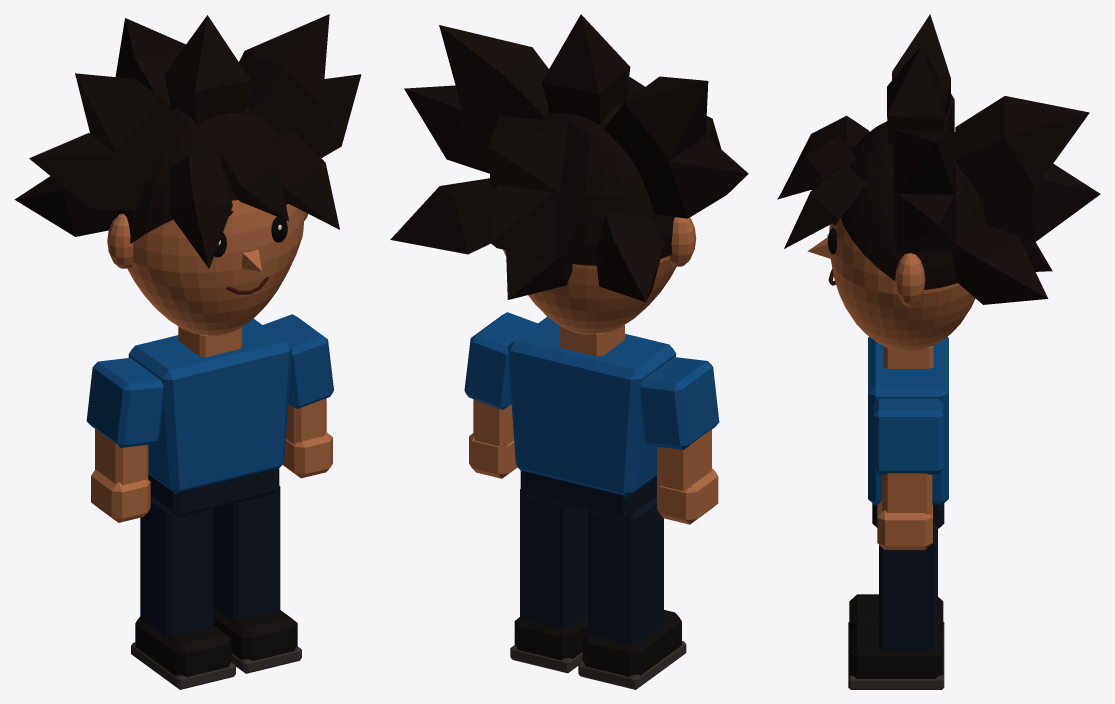
File: avatar-mii-kenney-cabelo-mechas-01.obj
The picture shows the model from 3 angles, left to right: view 1: azimuth 30°, elevation 25°; view 2: azimuth 150°, elevation 25°; view 3: azimuth 270°, elevation 25°; orthographic projection. The views are drawn at different scales.
Visible parts, largest first — view 1: Cabelo_mechas_01, Corpo_01, Cabeca_01, Perna_L, Perna_R, Manga, Sapato_L, Manga.001, Quadril, Sapato_R, Mao, Antebraco (+6 smaller); view 2: Cabelo_mechas_01, Corpo_01, Perna_L, Perna_R, Manga, Cabeca_01, Manga.001, Quadril, Sapato_L, Sapato_R, Antebraco, Mao (+6 smaller); view 3: Cabelo_mechas_01, Cabeca_01, Perna_R, Manga.001, Corpo_01, Sapato_R, Mao.001, Antebraco.001, Orelha_R, Sola.001, Sapato_L, Pescoco.
Part boxes in pixels (box(x1,y1,x2,y2)): Cabelo_mechas_01: box(14, 14, 361, 268); Corpo_01: box(128, 318, 291, 493); Cabeca_01: box(127, 200, 304, 335); Perna_L: box(140, 495, 214, 637); Perna_R: box(214, 486, 280, 621); Manga: box(86, 358, 163, 447); Sapato_L: box(135, 617, 231, 677); Manga.001: box(263, 314, 333, 408); Quadril: box(148, 468, 279, 517); Sapato_R: box(214, 608, 297, 661); Mao: box(91, 470, 150, 522); Antebraco: box(95, 428, 148, 484); Cabelo_mechas_01: box(390, 14, 748, 301); Corpo_01: box(507, 317, 676, 497); Perna_L: box(588, 496, 663, 645); Perna_R: box(520, 489, 587, 628); Manga: box(640, 357, 719, 449); Cabeca_01: box(503, 249, 676, 334); Manga.001: box(464, 312, 537, 409); Quadril: box(520, 471, 656, 521); Sapato_L: box(582, 610, 681, 676); Sapato_R: box(514, 615, 587, 660); Antebraco: box(657, 429, 711, 491); Mao: box(657, 468, 718, 524); Cabelo_mechas_01: box(777, 14, 1100, 304); Cabeca_01: box(829, 218, 975, 351); Perna_R: box(879, 524, 937, 649); Manga.001: box(873, 398, 943, 474); Corpo_01: box(868, 337, 948, 505); Sapato_R: box(849, 626, 943, 678); Mao.001: box(877, 501, 932, 549); Antebraco.001: box(882, 473, 932, 514); Orelha_R: box(894, 253, 925, 306); Sola.001: box(848, 653, 944, 689); Sapato_L: box(849, 594, 943, 632); Pescoco: box(883, 345, 933, 368).
Size of the model in its own units: 1.72 by 3.12 by 1.48.
